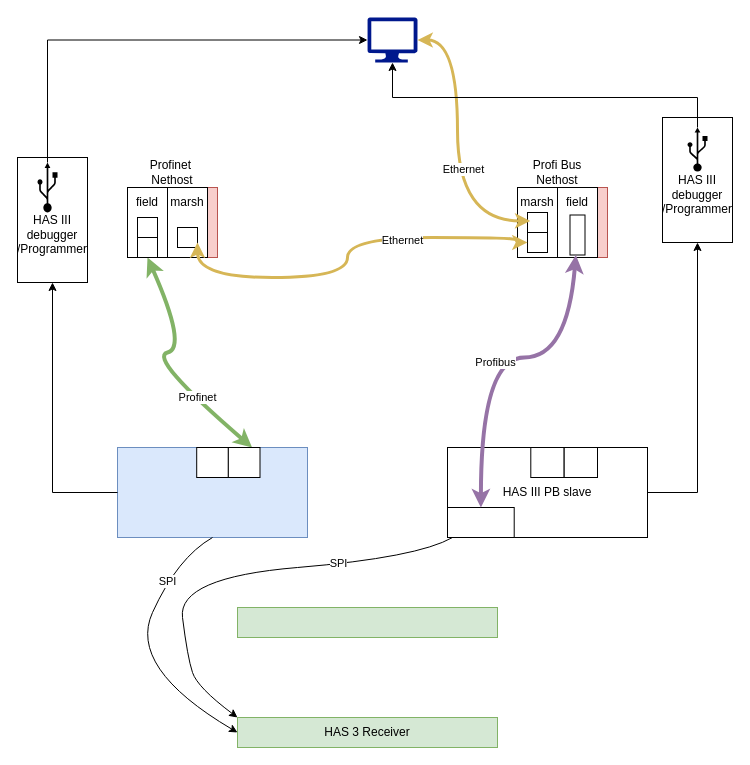
The diagram is 750 pixels wide and 765 high, and some of its shapes have lost their labels. The shapes that lost their labels are listed below. From the top down, each one's box as (x1, y1, x2, y2) in pixels, then its label:
(116, 446, 308, 538): HAS III PN slave
(236, 606, 498, 638): HAS 3 Transmitter
